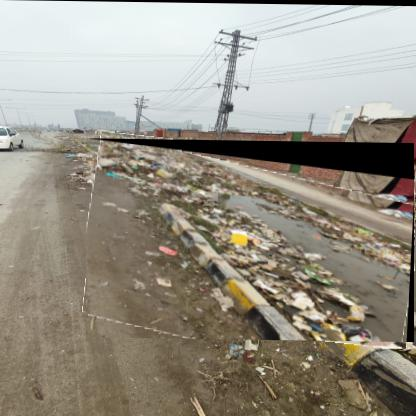Garbage: (87, 139, 416, 343)
